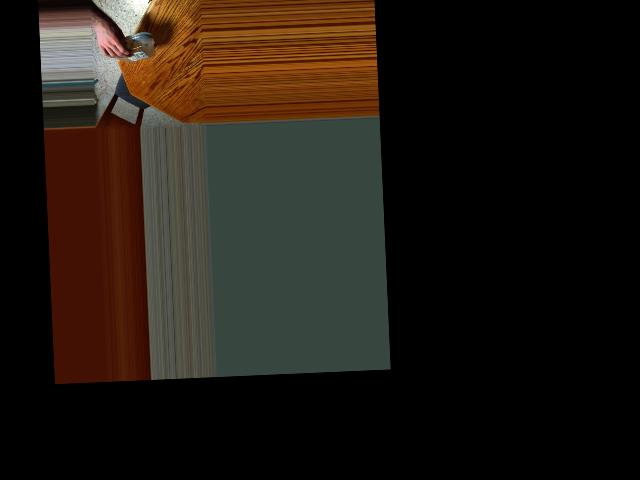cheese: (108, 28, 147, 63)
